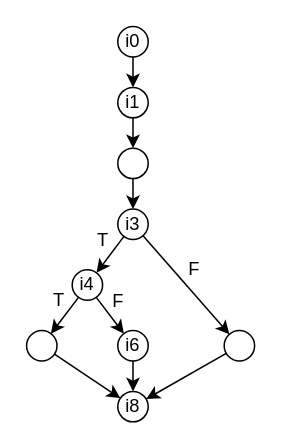
Some shapes in this 281 by 448 pixel diagram are drawn without their labels. Each missing label, with the box of its shape:
i2: (116, 147, 148, 179)
i5: (25, 329, 57, 361)
i7: (223, 329, 255, 361)
